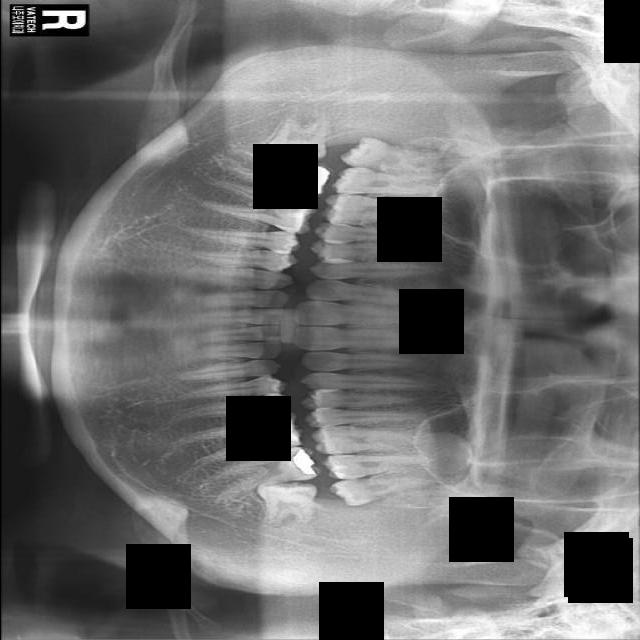3M ESPE Implant: (338, 133, 461, 182)
52: (271, 436, 325, 491), (272, 189, 323, 243), (259, 405, 308, 457), (286, 155, 335, 206), (309, 423, 358, 457), (322, 454, 362, 480)
73: (221, 145, 298, 192), (28, 611, 40, 614)
BioHorizons Implant: (321, 454, 435, 480)
BioLife Implant: (326, 473, 447, 508)
Biomet 3i Implant: (255, 476, 320, 527)
Blue Sky Bio Implant: (210, 442, 323, 498)
Caries: (330, 166, 446, 196)
Implant: (221, 146, 335, 203)
Keystone Dental Implant: (261, 109, 329, 167)
